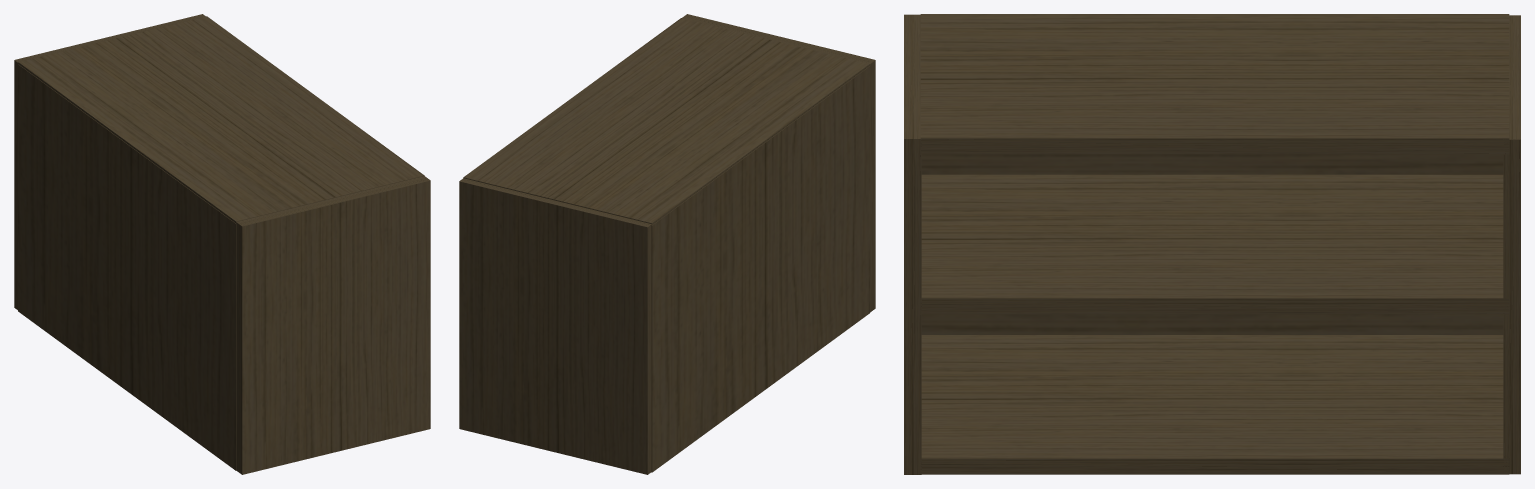
The model's file is Schrank.fbx.
The picture shows the model from 3 angles, left to right: view 1: azimuth 30°, elevation 25°; view 2: azimuth 150°, elevation 25°; view 3: azimuth 270°, elevation 25°; orthographic projection. The views are drawn at different scales.
Visible parts, largest first — view 1: schrank; view 2: schrank; view 3: schrank.
Boxes of the visible parts, x1,y1,x2,y2 form: schrank: (14,14,430,474); schrank: (459,14,875,474); schrank: (904,14,1520,474).
Bounding box in the file's own units: 50.11 × 63.13 × 105.
